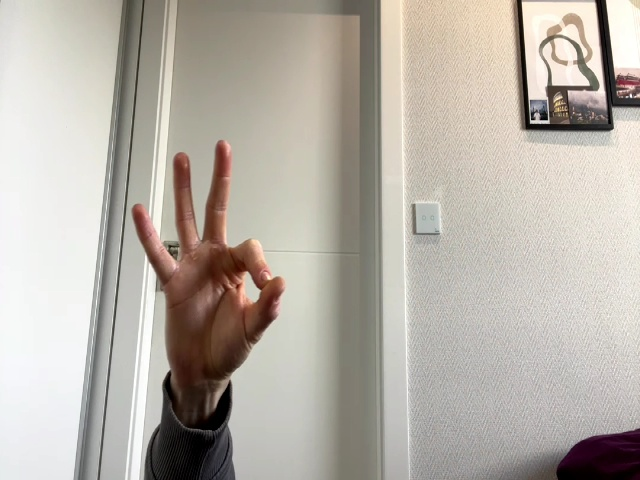O: (132, 141, 285, 384)
